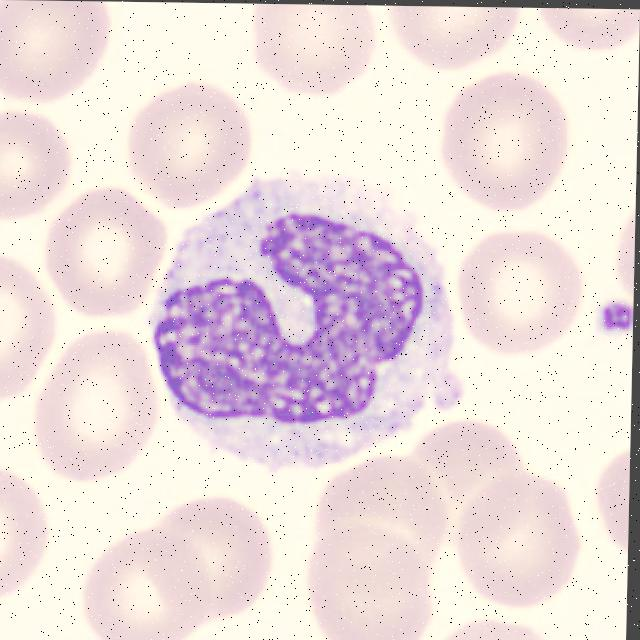monocyte: (146, 163, 454, 479)
platelets: (594, 294, 633, 338)
rbc: (27, 313, 162, 487), (108, 67, 259, 215), (427, 74, 574, 210), (395, 415, 530, 556), (143, 485, 283, 617), (450, 223, 579, 363), (235, 4, 392, 119), (33, 184, 174, 311), (307, 440, 448, 566), (454, 475, 588, 606), (63, 524, 214, 640), (312, 520, 438, 640), (0, 0, 129, 106), (0, 108, 81, 226), (0, 457, 60, 610), (389, 6, 519, 74), (0, 248, 53, 408), (587, 440, 630, 583), (538, 8, 640, 64), (427, 610, 555, 640)
